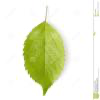Apple leaf: (22, 23, 68, 100)
